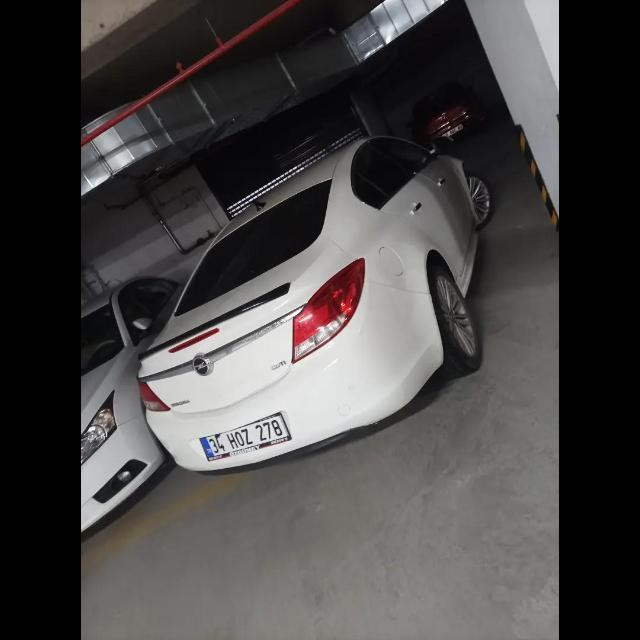Plaka: (202, 414, 290, 460)
